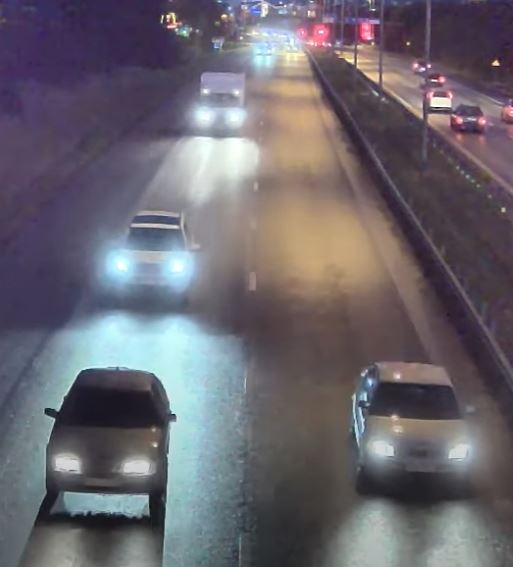Car: (44, 366, 177, 512), (350, 360, 471, 487), (114, 208, 200, 300)
Truck: (196, 71, 246, 134)
